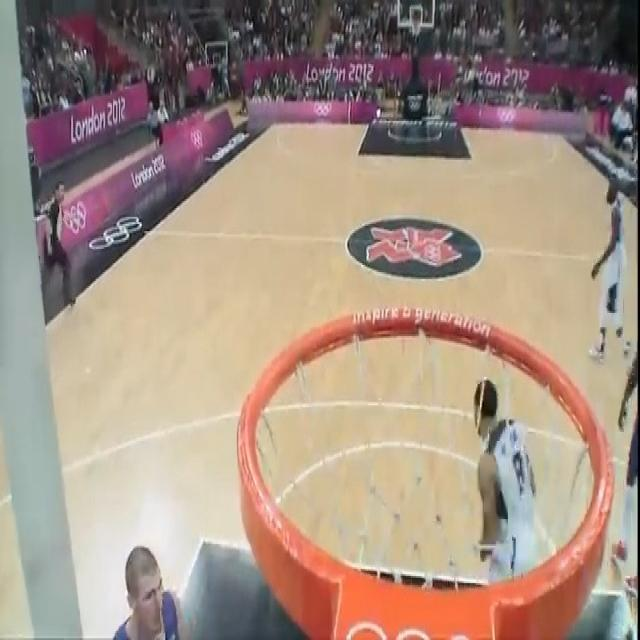hoop: (233, 309, 626, 640), (410, 14, 424, 37)
